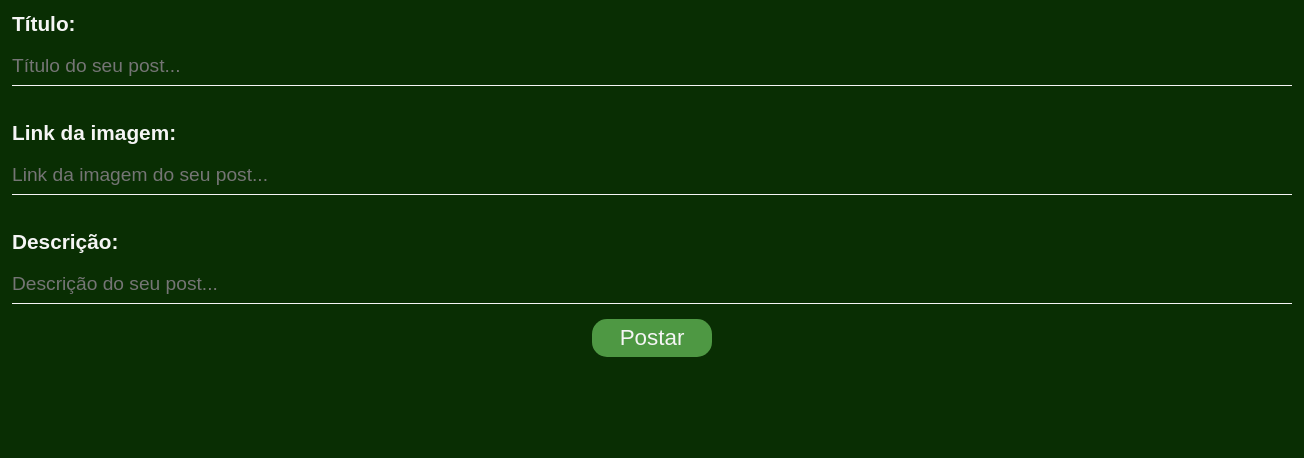
Scenario: Form Component › should show error messages when type invalid data
Click the button "Postar".
click(652, 338)  # box left=592, top=319, right=712, bottom=357
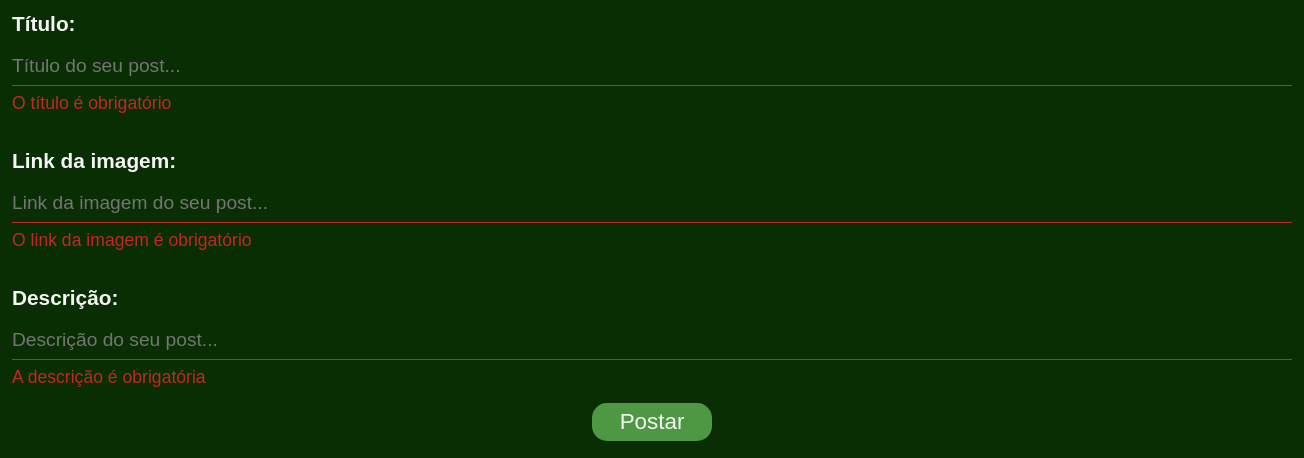
Expected: the number of elements with test id "error_form" is 3, left=12, top=93, right=171, bottom=113; left=12, top=230, right=252, bottom=250; left=12, top=367, right=206, bottom=387
Expected: the text "O título é obrigatório" is shown, left=12, top=93, right=171, bottom=113
Expected: the text "A descrição é obrigatória" is shown, left=12, top=367, right=206, bottom=387
